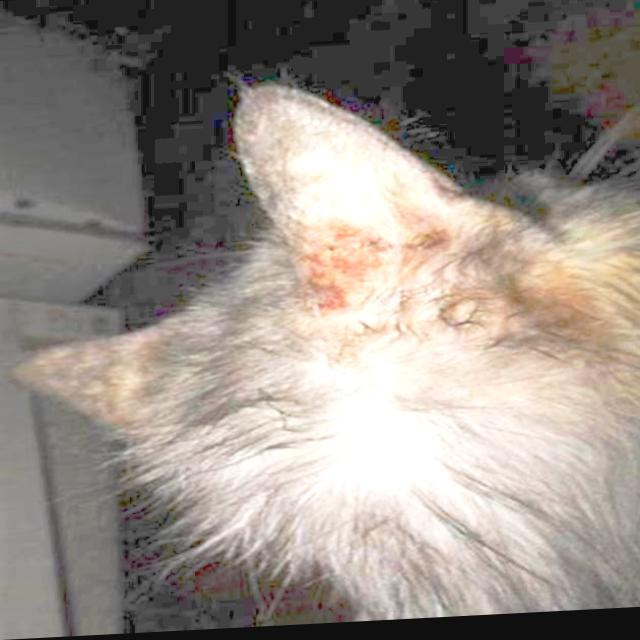ringworm: (306, 216, 404, 310), (400, 205, 453, 250)
